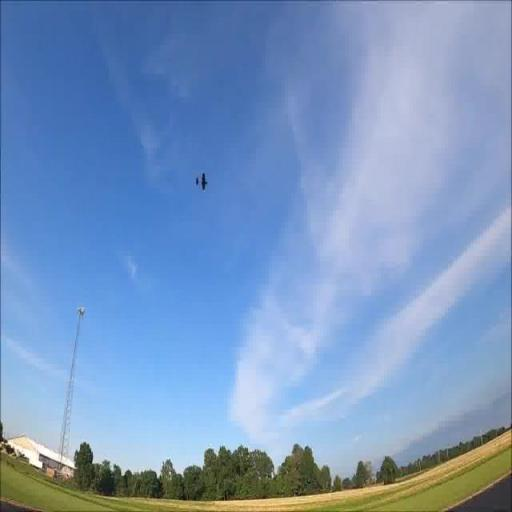uav: (190, 167, 212, 198)
